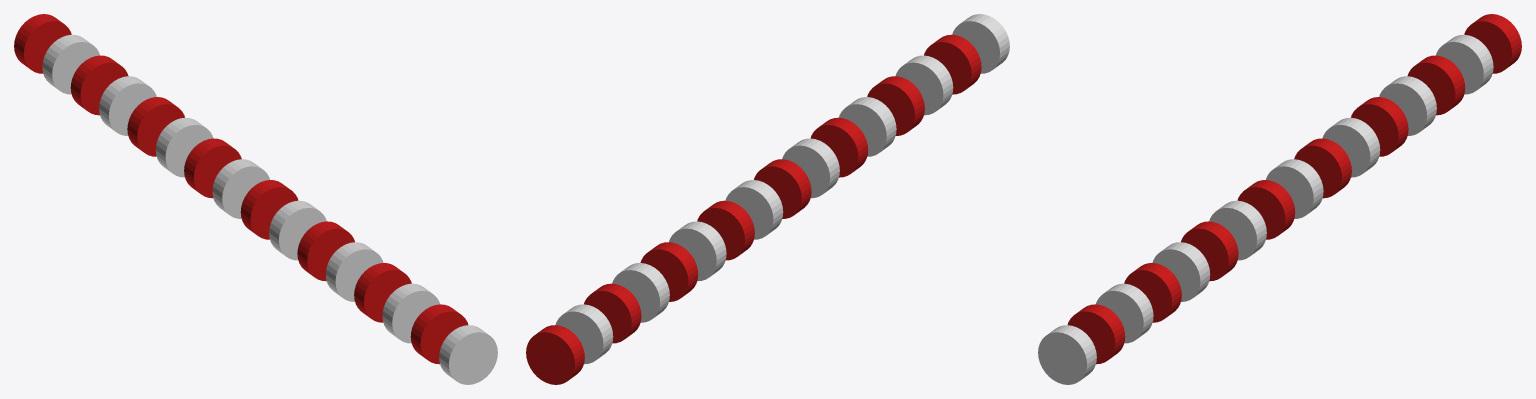
The model's file is boeien.fbx.
The picture shows the model from 3 angles, left to right: view 1: azimuth 30°, elevation 25°; view 2: azimuth 150°, elevation 25°; view 3: azimuth 330°, elevation 25°; orthographic projection.
Parts seen in each view (by area): view 1: Cylinder, Cylinder.004, Cylinder.015, Cylinder.009, Cylinder.001, Cylinder.007, Cylinder.006, Cylinder.014, Cylinder.003, Cylinder.005, Cylinder.012, Cylinder.008 (+4 smaller); view 2: Cylinder.010, Cylinder.014, Cylinder.005, Cylinder.003, Cylinder.004, Cylinder.013, Cylinder.012, Cylinder.011, Cylinder.002, Cylinder.006, Cylinder.015, Cylinder.009 (+4 smaller); view 3: Cylinder, Cylinder.004, Cylinder.015, Cylinder.009, Cylinder.001, Cylinder.007, Cylinder.006, Cylinder.014, Cylinder.003, Cylinder.005, Cylinder.012, Cylinder.008 (+4 smaller).
Boxes of the visible parts, x1,y1,x2,y2 form: Cylinder: (439,325,497,384); Cylinder.004: (269,200,326,260); Cylinder.015: (212,159,269,218); Cylinder.009: (70,55,128,115); Cylinder.001: (410,304,468,364); Cylinder.007: (325,242,383,301); Cylinder.006: (297,221,354,281); Cylinder.014: (184,138,241,198); Cylinder.003: (382,283,439,343); Cylinder.005: (240,180,298,239); Cylinder.012: (155,117,213,177); Cylinder.008: (99,76,156,135); Cylinder.010: (526,325,584,384); Cylinder.014: (697,200,754,260); Cylinder.005: (754,159,811,218); Cylinder.003: (895,55,953,115); Cylinder.004: (782,138,839,198); Cylinder.013: (640,242,698,301); Cylinder.012: (669,221,726,281); Cylinder.011: (555,304,613,364); Cylinder.002: (867,76,924,135); Cylinder.006: (810,117,868,177); Cylinder.015: (725,180,783,239); Cylinder.009: (584,283,641,343); Cylinder: (1038,325,1096,384); Cylinder.004: (1209,200,1266,260); Cylinder.015: (1266,159,1323,218); Cylinder.009: (1407,55,1465,115); Cylinder.001: (1067,304,1125,364); Cylinder.007: (1152,242,1210,301); Cylinder.006: (1181,221,1238,281); Cylinder.014: (1294,138,1351,198); Cylinder.003: (1096,283,1153,343); Cylinder.005: (1237,180,1295,239); Cylinder.012: (1322,117,1380,177); Cylinder.008: (1379,76,1436,135).
Size of the model in its own units: 200 by 200 by 3069.
